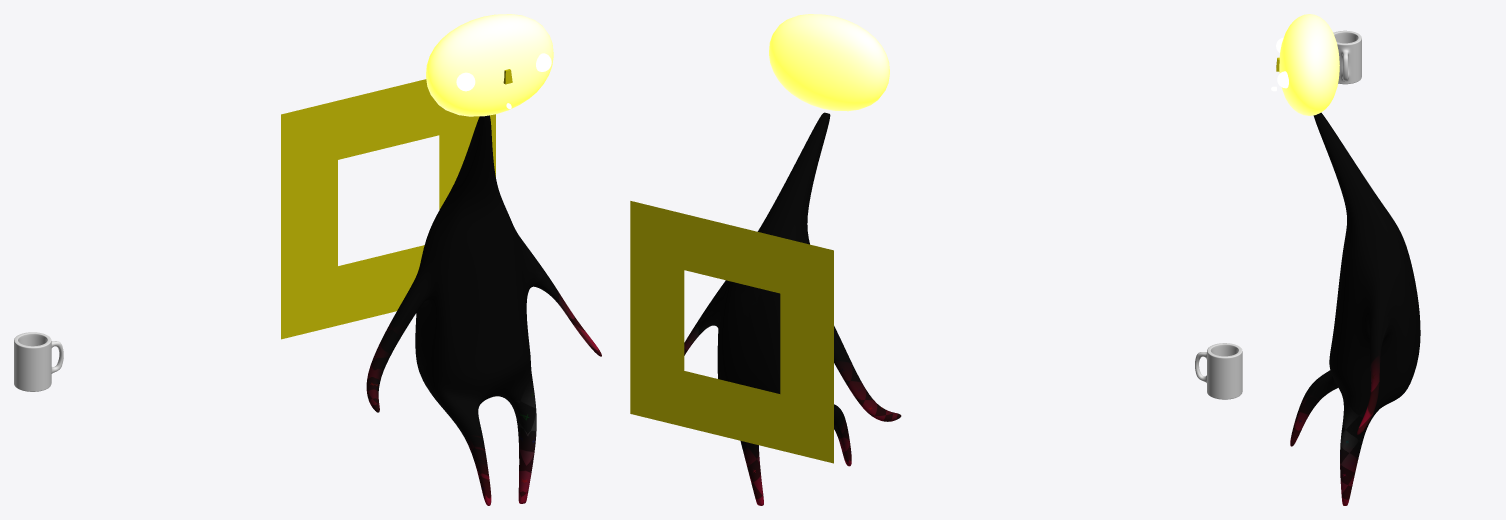
The model's file is parts.0c71eddd.glb.
The picture shows the model from 3 angles, left to right: view 1: azimuth 30°, elevation 25°; view 2: azimuth 150°, elevation 25°; view 3: azimuth 270°, elevation 25°; orthographic projection. The views are drawn at different scales.
Visible parts, largest first — view 1: body, square, face, cup; view 2: square, body, face, cup; view 3: body, face, cup.
Boxes of the visible parts, left/top/right/bottom form: body: left=366, top=115, right=601, bottom=505; square: left=281, top=79, right=495, bottom=339; face: left=426, top=14, right=553, bottom=116; cup: left=14, top=332, right=63, bottom=391; square: left=630, top=201, right=833, bottom=463; body: left=684, top=112, right=901, bottom=505; face: left=769, top=14, right=889, bottom=111; cup: left=1195, top=343, right=1242, bottom=399; body: left=1290, top=112, right=1420, bottom=505; face: left=1279, top=14, right=1339, bottom=115; cup: left=1333, top=30, right=1361, bottom=84.
Bounding box in the file's own units: 35.89 × 29.64 × 12.94.
5 materials, 1 textured.
